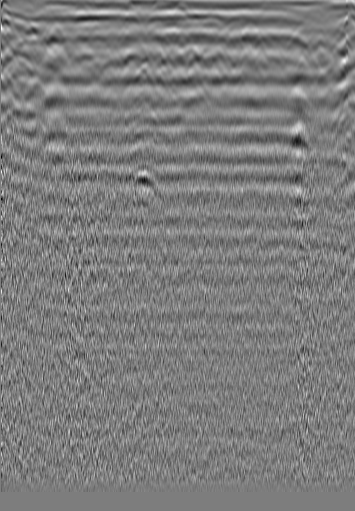가스: (128, 166, 163, 198)
상수: (308, 38, 328, 58)
오수: (44, 22, 64, 42)
우수: (179, 41, 199, 61)
